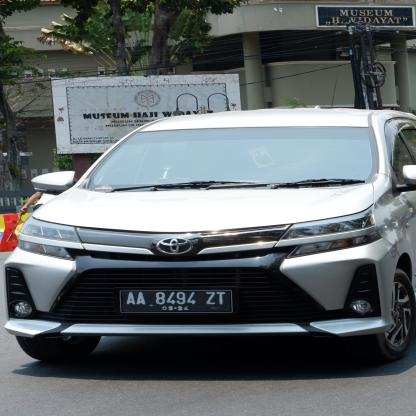Plat-Nomor: (117, 287, 237, 316)
